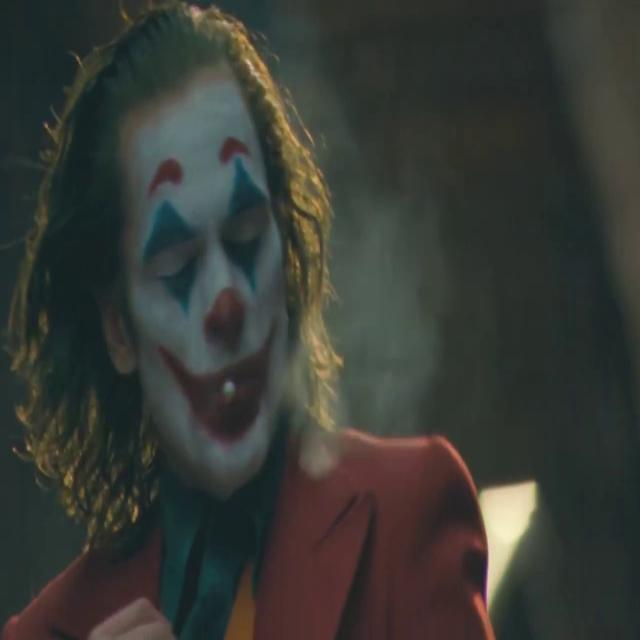Smooking: (219, 365, 244, 411)
